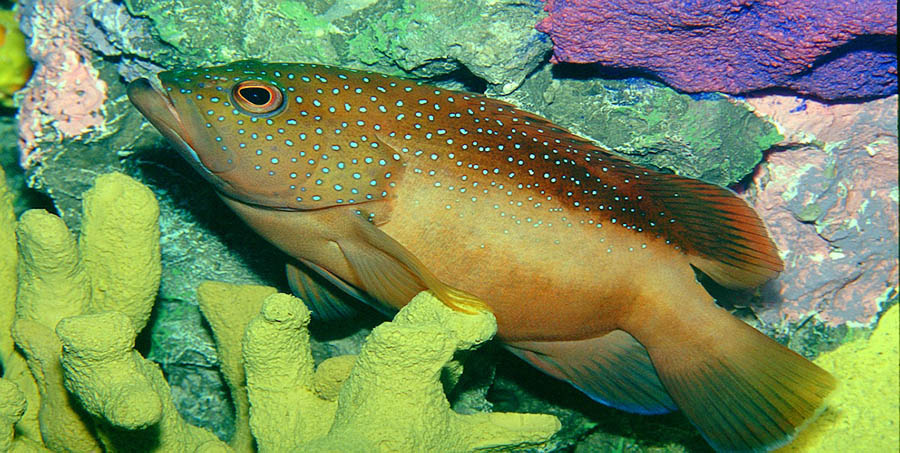Cephalopholis_fulvaw: (121, 38, 823, 453)
